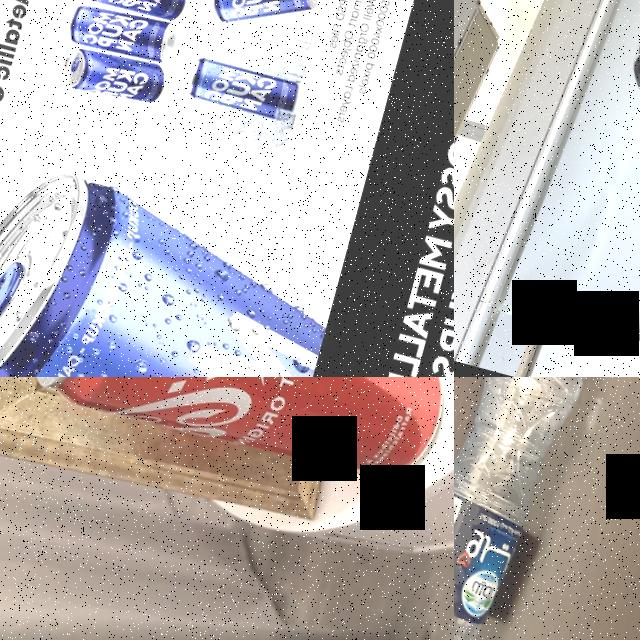bottle: (454, 377, 606, 640)
can: (0, 145, 347, 377), (19, 377, 454, 498), (186, 52, 303, 125), (57, 38, 168, 112), (65, 0, 179, 68), (203, 0, 327, 45), (78, 0, 190, 23)
